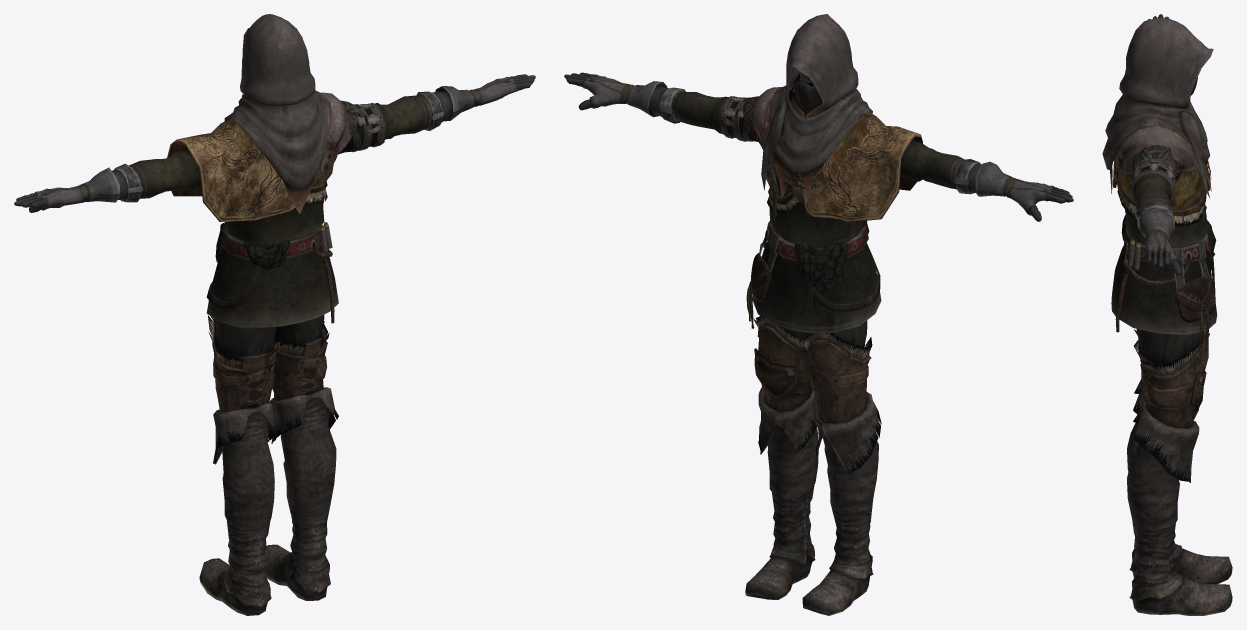
File: elf_leather.fbx
3 views of the same model, side by side, from view 1: azimuth 30°, elevation 25°; view 2: azimuth 150°, elevation 25°; view 3: azimuth 270°, elevation 25° (orthographic). The views are drawn at different scales.
Parts seen in each view (by area): view 1: hmm65:mesh02, hmm65:mesh03, hmm65:mesh13, hmm65:mesh6, hmm65:mesh3, hmm65:mesh11, hmm65:mesh2, hmm65:mesh0, hmm65:mesh7, hmm65:mesh5; view 2: hmm65:mesh02, hmm65:mesh03, hmm65:mesh6, hmm65:mesh13, hmm65:mesh3, hmm65:mesh2, hmm65:mesh11, hmm65:mesh0, hmm65:mesh7, hmm65:mesh5; view 3: hmm65:mesh02, hmm65:mesh03, hmm65:mesh3, hmm65:mesh13, hmm65:mesh2, hmm65:mesh7, hmm65:mesh5, hmm65:mesh6, hmm65:mesh11, hmm65:mesh0, hmm65:mesh4.
Part boxes in pixels (box(x1,y1,x2,y2)): hmm65:mesh02: box(199, 315, 338, 615); hmm65:mesh03: box(224, 14, 330, 213); hmm65:mesh13: box(129, 95, 431, 243); hmm65:mesh6: box(167, 118, 337, 221); hmm65:mesh3: box(206, 245, 338, 327); hmm65:mesh11: box(80, 86, 474, 202); hmm65:mesh2: box(215, 103, 385, 323); hmm65:mesh0: box(14, 74, 535, 212); hmm65:mesh7: box(206, 143, 338, 308); hmm65:mesh5: box(321, 92, 351, 153); hmm65:mesh02: box(745, 315, 881, 615); hmm65:mesh03: box(761, 14, 872, 202); hmm65:mesh6: box(763, 112, 922, 222); hmm65:mesh13: box(671, 92, 964, 246); hmm65:mesh3: box(752, 241, 881, 333); hmm65:mesh2: box(719, 96, 869, 328); hmm65:mesh11: box(626, 81, 1012, 196); hmm65:mesh0: box(564, 72, 1073, 221); hmm65:mesh7: box(749, 142, 880, 318); hmm65:mesh5: box(749, 87, 794, 149); hmm65:mesh02: box(1127, 329, 1232, 615); hmm65:mesh03: box(1102, 18, 1213, 197); hmm65:mesh3: box(1111, 245, 1217, 334); hmm65:mesh13: box(1115, 145, 1207, 247); hmm65:mesh2: box(1115, 160, 1216, 350); hmm65:mesh7: box(1116, 151, 1215, 322); hmm65:mesh5: box(1119, 125, 1197, 173); hmm65:mesh6: box(1113, 146, 1209, 216); hmm65:mesh11: box(1135, 200, 1175, 240); hmm65:mesh0: box(1145, 14, 1181, 275); hmm65:mesh4: box(1115, 160, 1206, 226).
Bounding box in the file's own units: 6.31 × 6.72 × 1.38.
